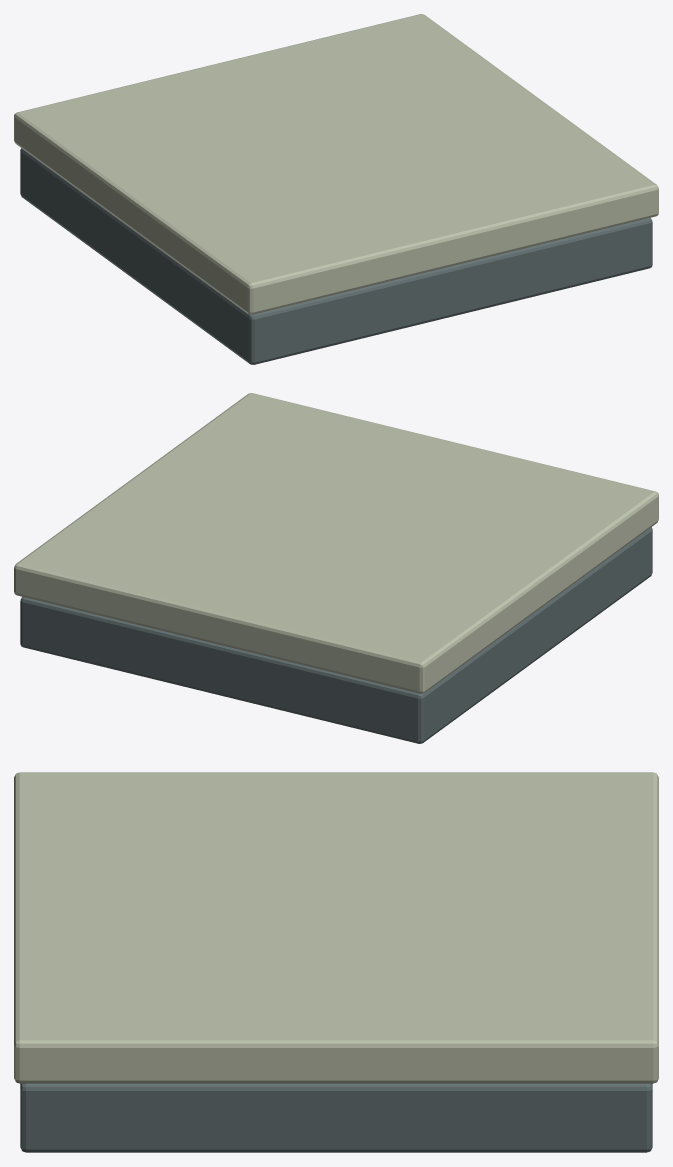
Rendered from foundation_cell_2m.glb.
3 views of the same model, one above another, from view 1: azimuth 30°, elevation 25°; view 2: azimuth 150°, elevation 25°; view 3: azimuth 270°, elevation 25° (orthographic). The views are drawn at different scales.
Visible parts, largest first — view 1: foundation_cell_2m__finish, foundation_cell_2m__structure; view 2: foundation_cell_2m__finish, foundation_cell_2m__structure; view 3: foundation_cell_2m__finish, foundation_cell_2m__structure.
Boxes of the visible parts, x1=… form: foundation_cell_2m__finish: x1=14, y1=14, x2=658, y2=314; foundation_cell_2m__structure: x1=20, y1=148, x2=652, y2=364; foundation_cell_2m__finish: x1=14, y1=393, x2=658, y2=693; foundation_cell_2m__structure: x1=20, y1=527, x2=652, y2=743; foundation_cell_2m__finish: x1=14, y1=772, x2=658, y2=1083; foundation_cell_2m__structure: x1=20, y1=1083, x2=652, y2=1152.
Size of the model in its own units: 2.04 by 0.4 by 2.04.
